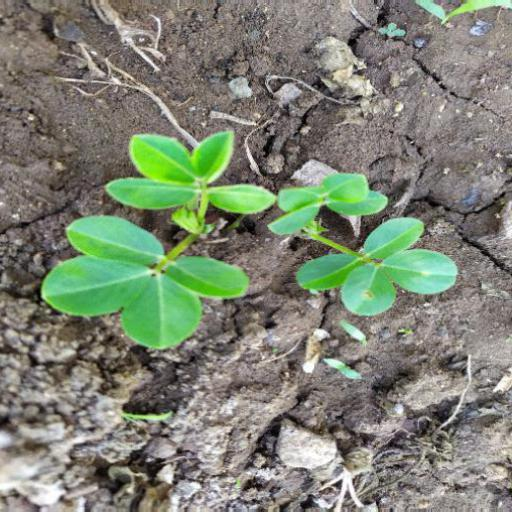weed: (37, 119, 464, 375)
